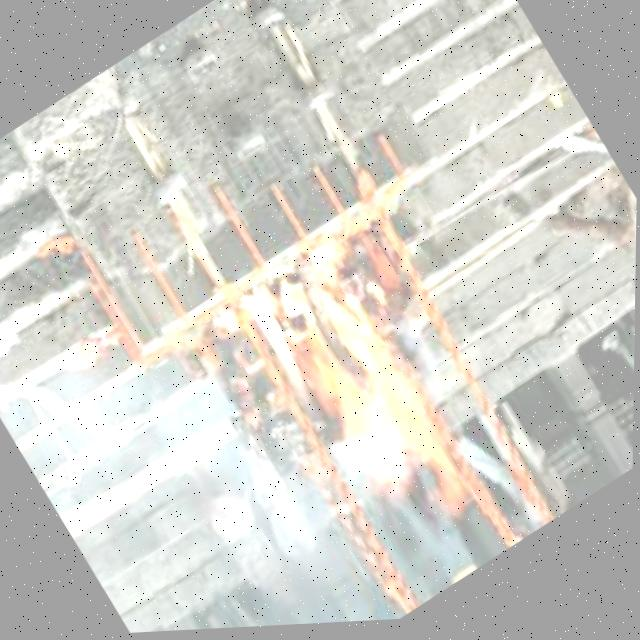Fire: (224, 225, 490, 562)
